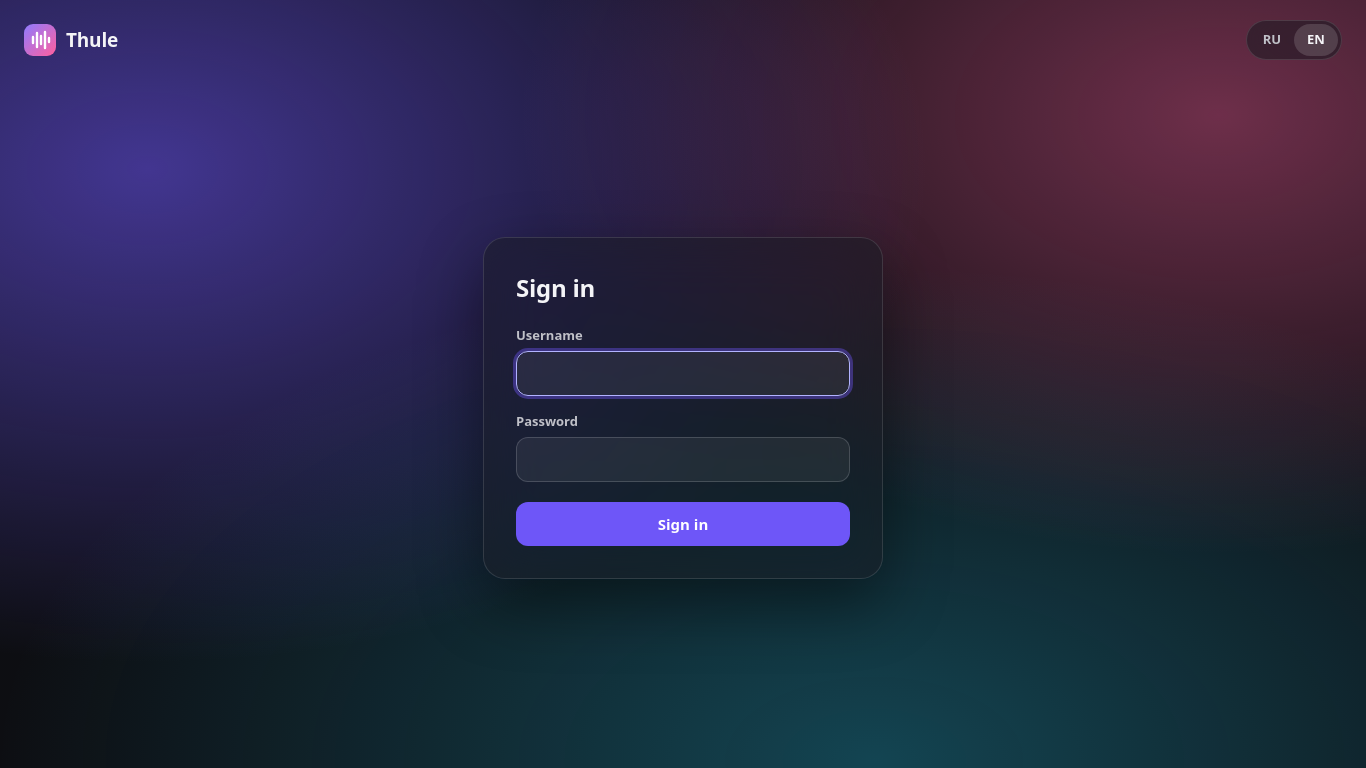
Test case: after too many failures the page says when to try again
The width and height of the screenshot is (1366, 768).
In the field labelled "Username": point(683, 374) [516, 351, 850, 396], type "ada"
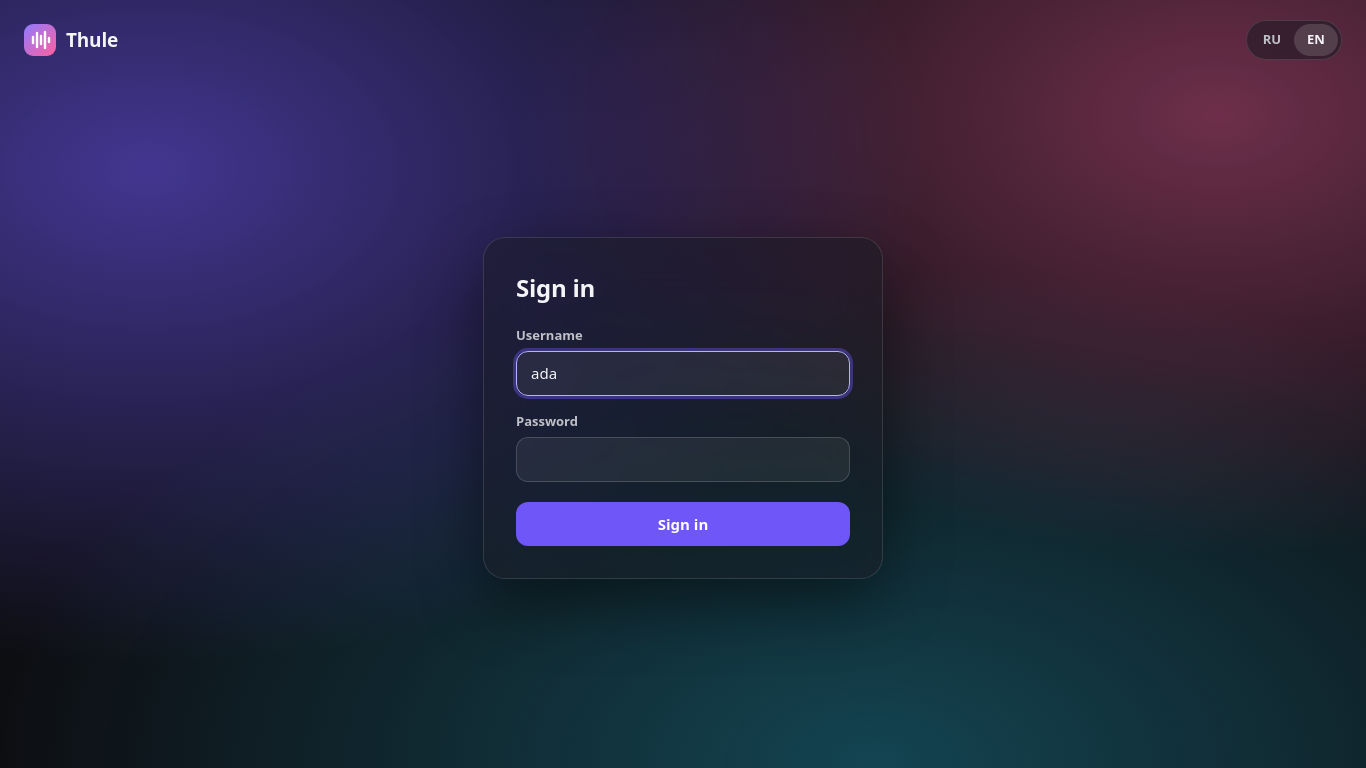
In the password field labelled "Password": point(683, 460) [516, 437, 850, 482], type "whatever"
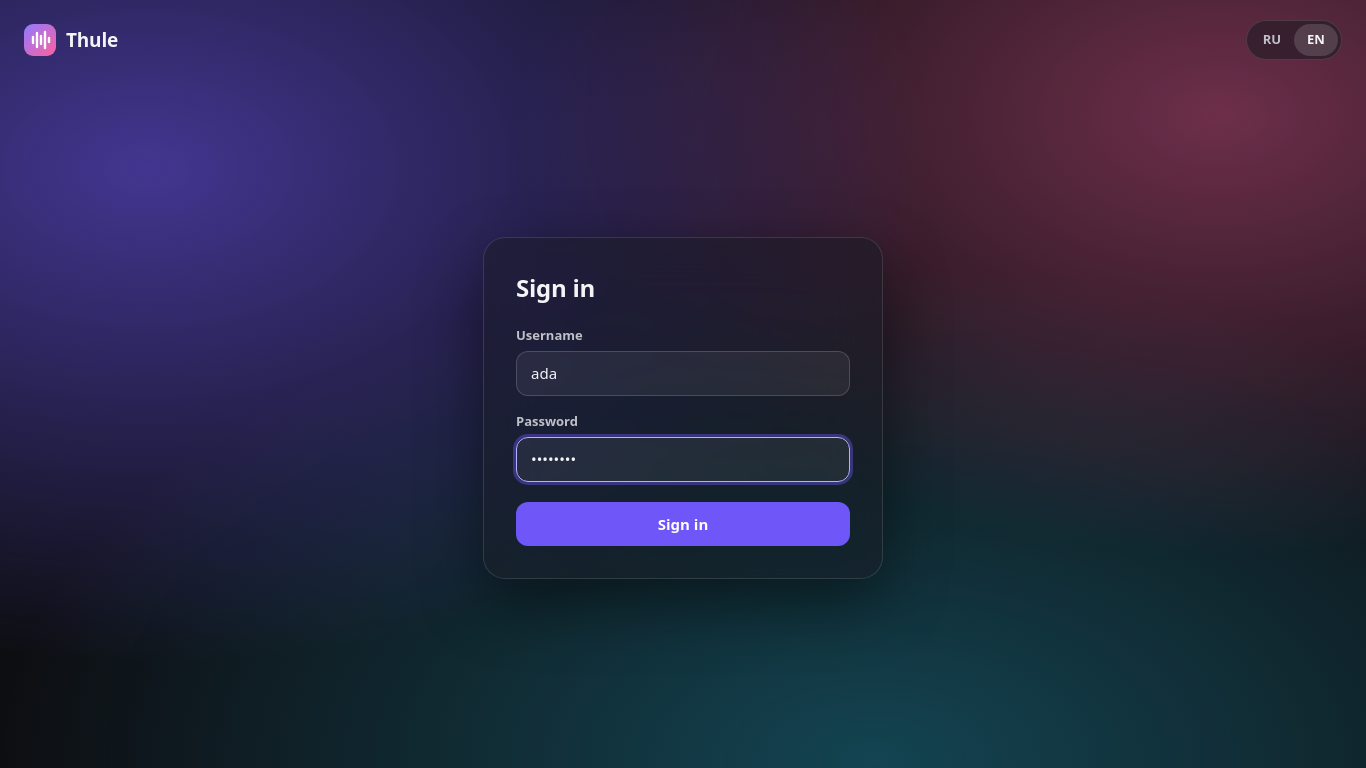
Click the button "Sign in": point(683, 524) [516, 502, 850, 546]
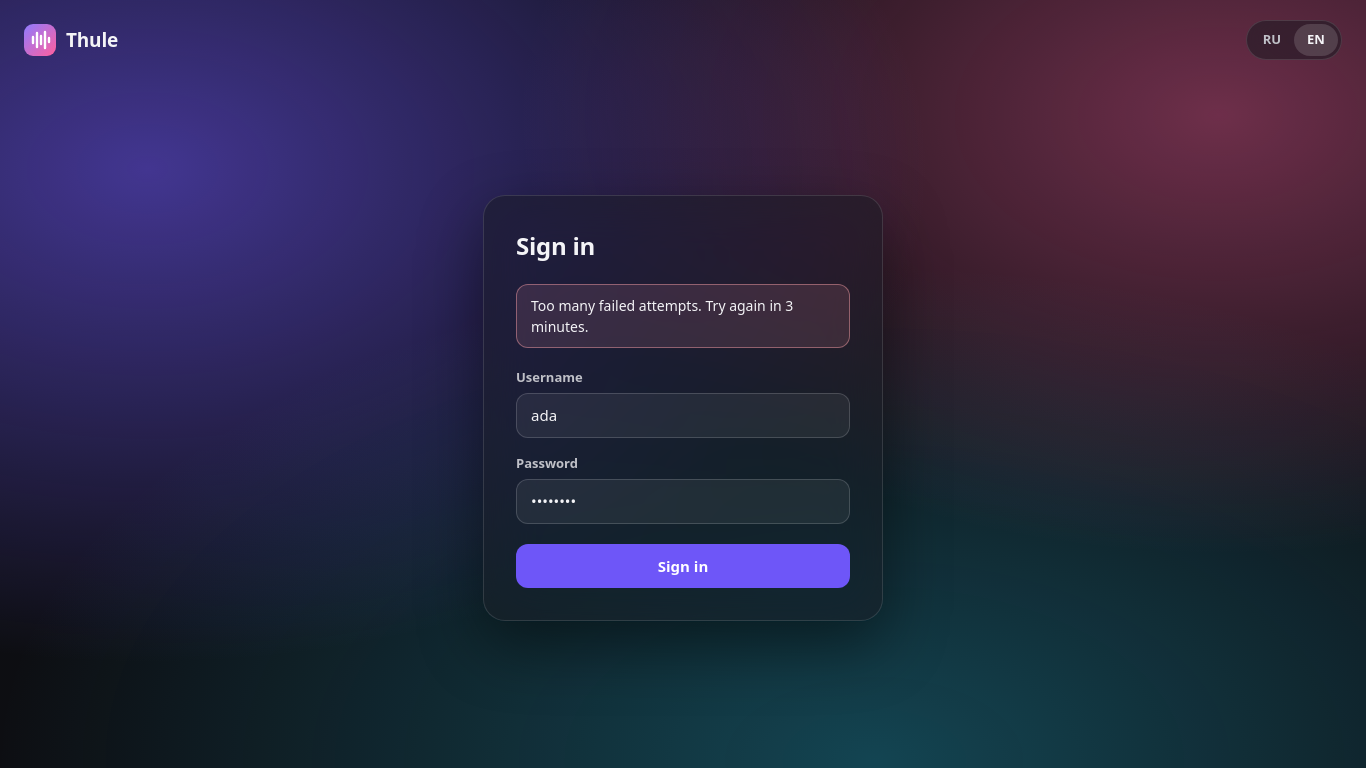
expect the message shows "Try again in 3 minutes.": met, box [531, 296, 793, 336]
